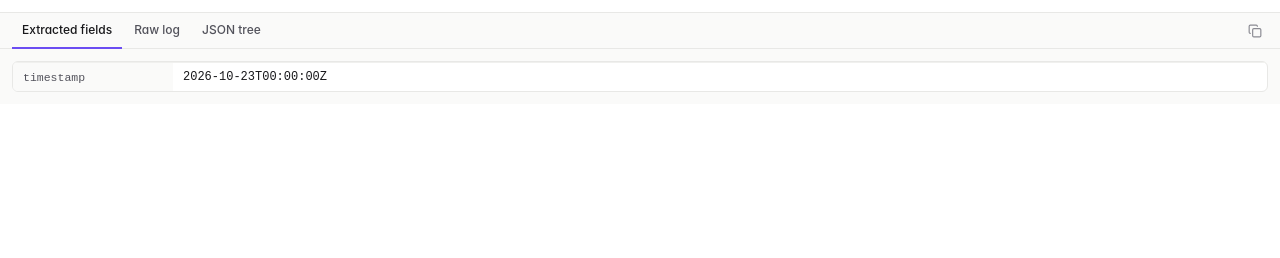
Scenario: expanded log JSON tree › supports an original JSON array
Click the button "JSON tree": (231, 31) [192,13,271,49]
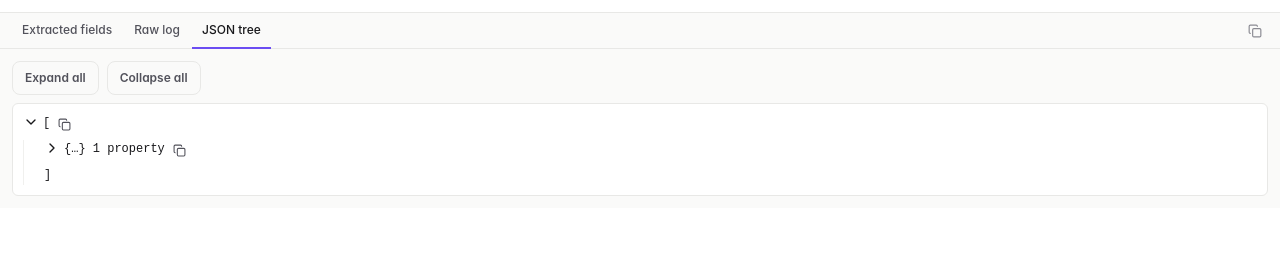
Click the button "{…} 1 property": (104, 150) [44,140,165,159]
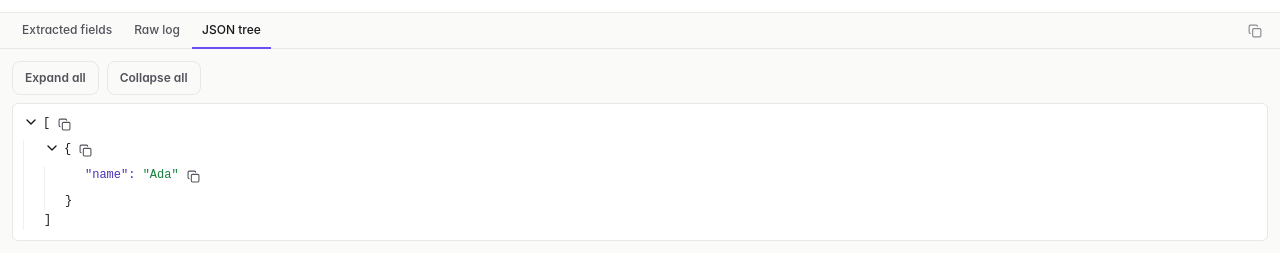
Expected: the text "\"Ada\"" is shown, [143,168,179,182]
